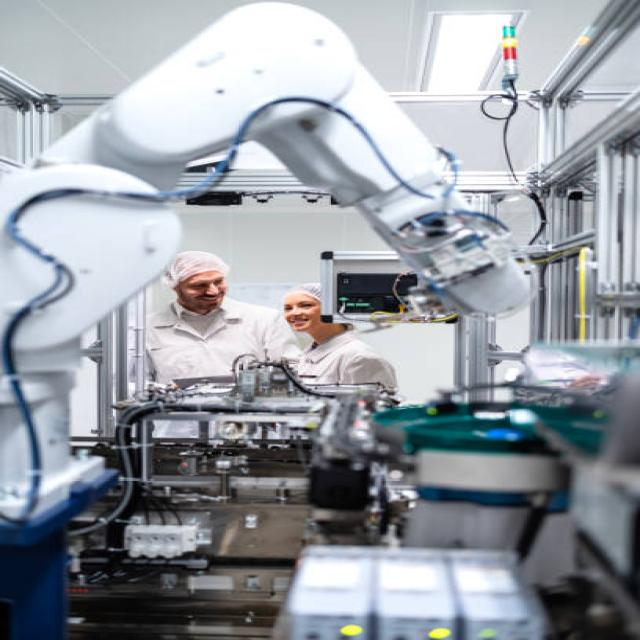Robotic-arm: (0, 1, 548, 503)
